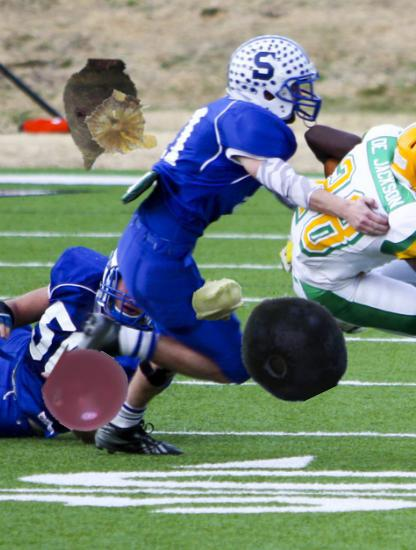Beetroot: (39, 56, 160, 177)
Blueberry: (238, 292, 347, 401)
Kohlrabi: (190, 272, 246, 328)
Physalis: (84, 88, 163, 167)
Redcurrant: (44, 348, 128, 432)
